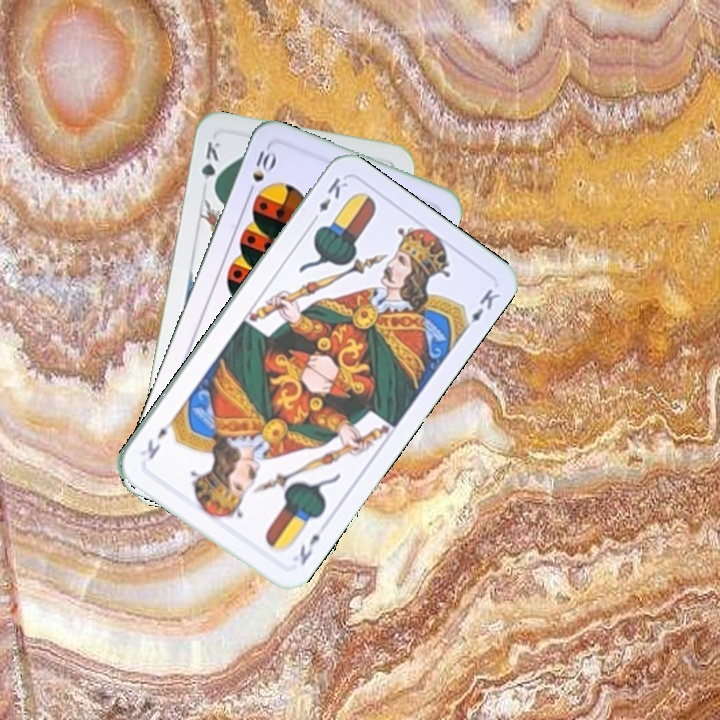EK: (306, 173, 351, 227), (295, 530, 323, 568)
GK: (197, 137, 223, 195)
S10: (243, 146, 278, 199)
